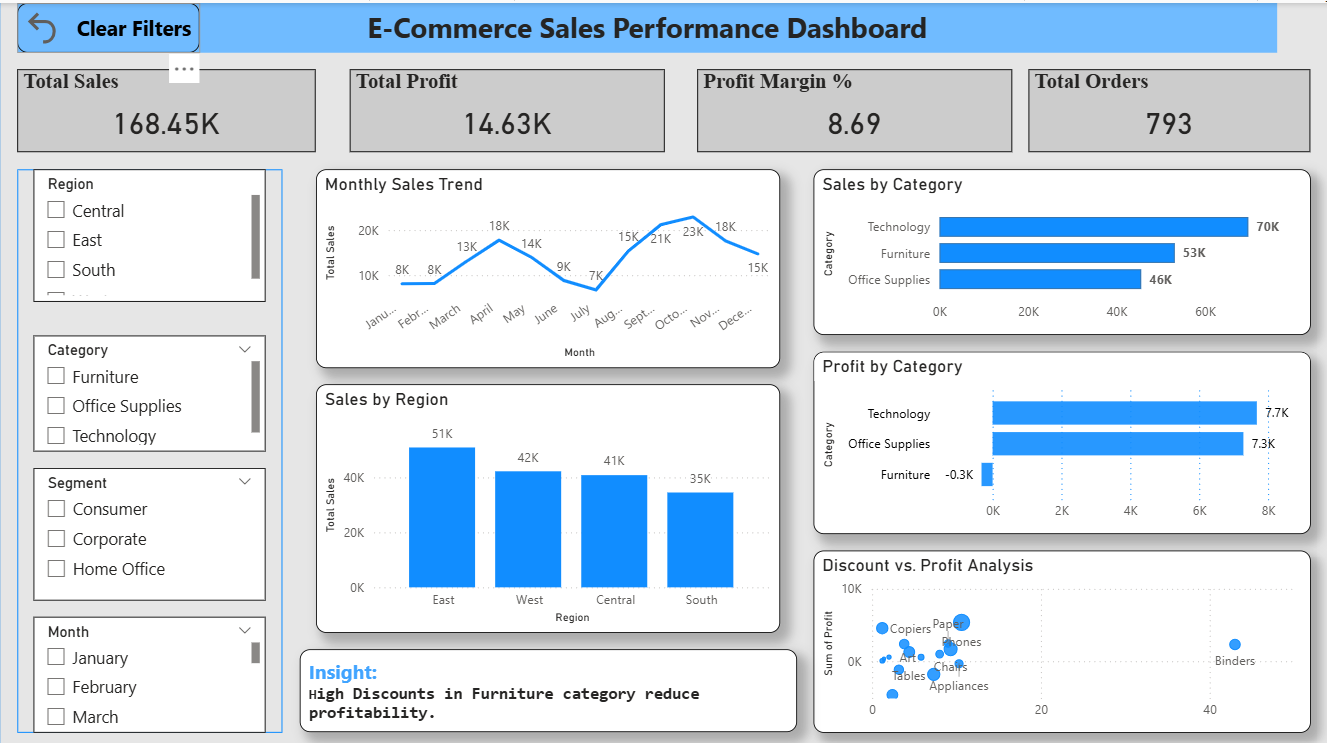

What the dashboard file says about the page in this screenshot:
{"tool":"powerbi","page":{"name":"Page 1","canvas":[1280,720],"ordinal":0},"visuals":[{"type":"textbox","box":[16,0,1216,48],"z":0},{"type":"shape","box":[16,160,256,544],"z":0,"group":"g1"},{"type":"card","title":"Total Sales","fields":{"Values":["Sample - Superstore.Total Sales"]},"box":[16,64,288,80],"z":1000},{"type":"slicer","fields":{"Values":["Sample - Superstore.Region"]},"box":[32,160,224,128],"z":1000,"group":"g1"},{"type":"card","title":"Total Profit","fields":{"Values":["Sample - Superstore.Total  Profit"]},"box":[336,64,304,80],"z":2000},{"type":"slicer","fields":{"Values":["Sample - Superstore.Category"]},"box":[32,320,224,112],"z":2000,"group":"g1"},{"type":"card","title":"Profit Margin %","fields":{"Values":["Sample - Superstore.Profit Margin %"]},"box":[672,64,304,80],"z":3000},{"type":"slicer","fields":{"Values":["Sample - Superstore.Segment"]},"box":[32,448,224,128],"z":3000,"group":"g1"},{"type":"card","title":"Total Orders","fields":{"Values":["Sample - Superstore.Total Orders"]},"box":[992,64,272,80],"z":4000},{"type":"slicer","fields":{"Values":["Sample - Superstore.Order Date.Variation.Date Hierarchy.Month"]},"box":[32,592,224,112],"z":4000,"group":"g1"},{"type":"lineChart","title":"Monthly Sales Trend","fields":{"Category":["Sample - Superstore.Order Date.Variation.Date Hierarchy.Month"],"Y":["Sample - Superstore.Total Sales"]},"box":[304,160,448,192],"z":5000},{"type":"clusteredBarChart","title":" Sales by Category","fields":{"Category":["Sample - Superstore.Category"],"Y":["Sample - Superstore.Total Sales"]},"box":[784,160,480,160],"z":6000},{"type":"clusteredBarChart","title":" Profit by Category","fields":{"Category":["Sample - Superstore.Category"],"Y":["Sample - Superstore.Total  Profit"]},"box":[784,336,480,176],"z":7000},{"type":"clusteredColumnChart","title":"Sales by Region","fields":{"Category":["Sample - Superstore.Region"],"Y":["Sample - Superstore.Total Sales"]},"box":[304,368,448,240],"z":8000},{"type":"scatterChart","title":"Discount vs. Profit Analysis","fields":{"Category":["Sample - Superstore.Sub-Category"],"Size":["Sum(Sample - Superstore.Sales)"],"X":["Sum(Sample - Superstore.Discount)"],"Y":["Sum(Sample - Superstore.Profit)"]},"box":[784,528,480,176],"z":9000},{"type":"textbox","box":[288,624,480,80],"z":10000},{"type":"group","id":"g1","title":"Slicer Panel","box":[16,160,256,544],"z":11000},{"type":"actionButton","box":[16,0,176,48],"z":13000}]}

Visuals, with their boxes in screenshot pixels (x1, y1, x2, y2), scaled from the page's 1280x720 canvas onto the 1327x743 screenshot:
textbox: 17,0,1277,50
shape: 17,165,282,726
"Total Sales" card: 17,66,315,149
slicer - Sample - Superstore.Region: 33,165,265,297
"Total Profit" card: 348,66,664,149
slicer - Sample - Superstore.Category: 33,330,265,446
"Profit Margin %" card: 697,66,1012,149
slicer - Sample - Superstore.Segment: 33,462,265,594
"Total Orders" card: 1028,66,1310,149
slicer - Sample - Superstore.Order Date.Variation.Date Hierarchy.Month: 33,611,265,726
"Monthly Sales Trend" lineChart: 315,165,780,363
" Sales by Category" clusteredBarChart: 813,165,1310,330
" Profit by Category" clusteredBarChart: 813,347,1310,528
"Sales by Region" clusteredColumnChart: 315,380,780,627
"Discount vs. Profit Analysis" scatterChart: 813,545,1310,726
textbox: 299,644,796,726
"Slicer Panel" group: 17,165,282,726
actionButton: 17,0,199,50
